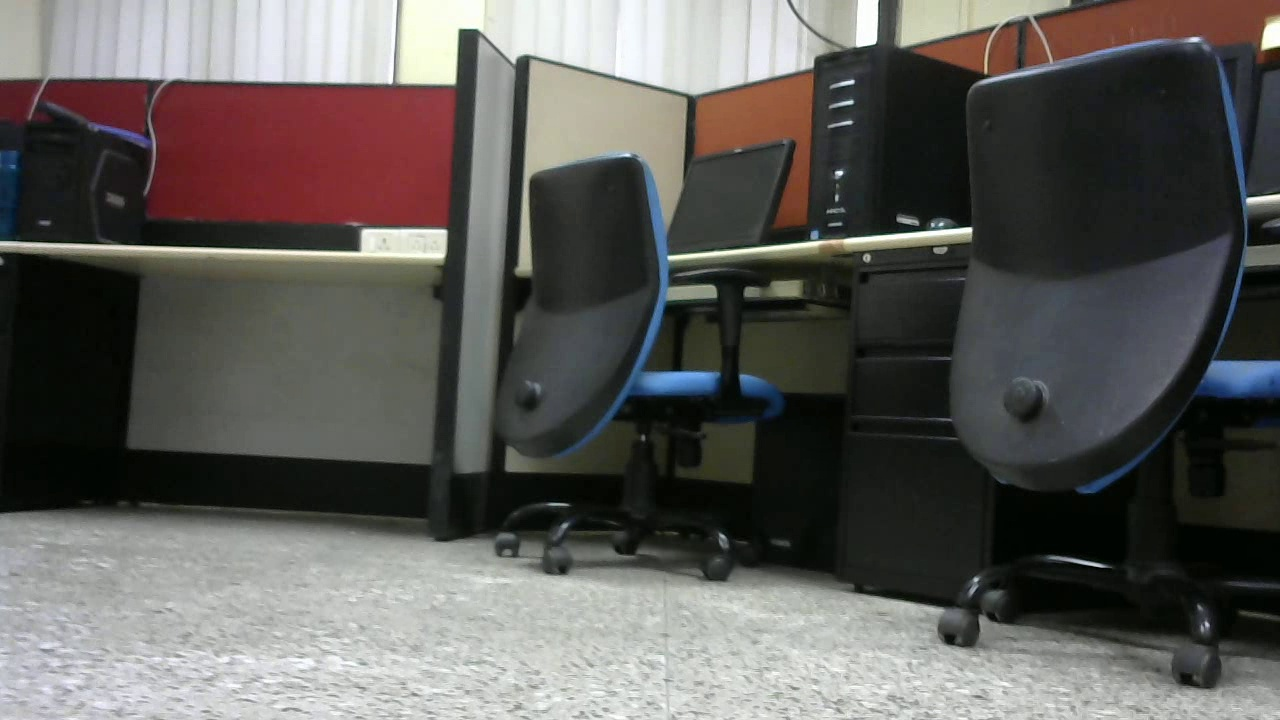chair: (941, 34, 1280, 691), (495, 134, 784, 581)
